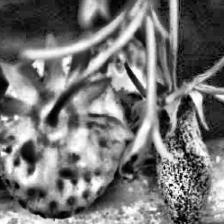Gray Mold: (155, 85, 212, 224)
